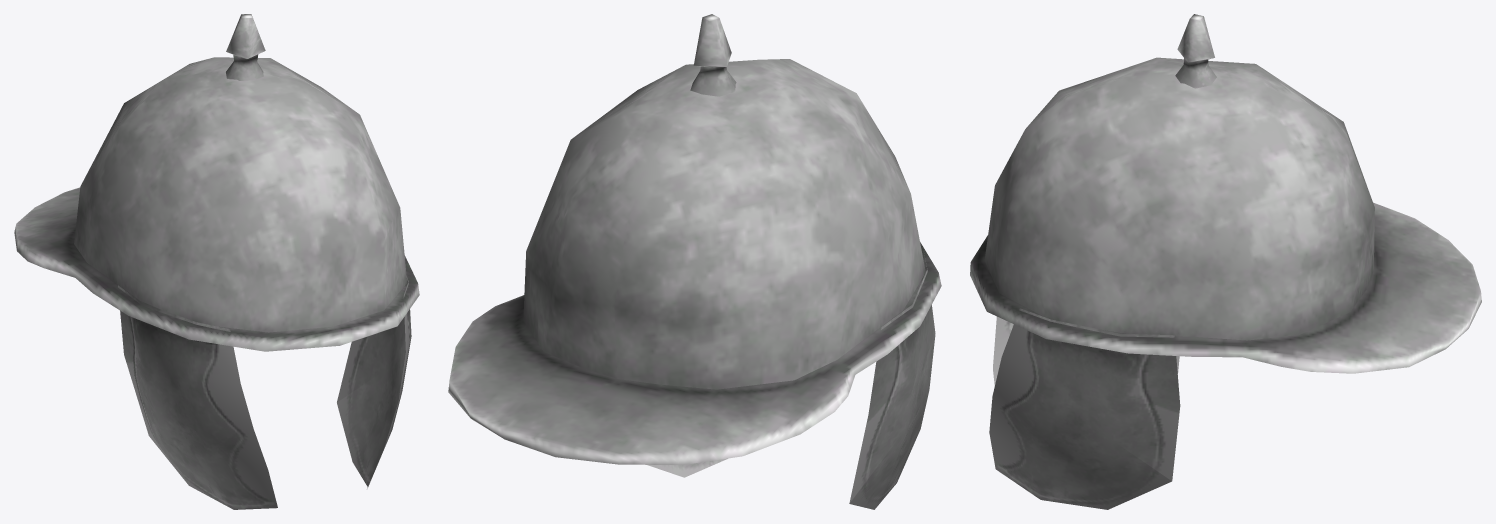
File: helmet-mediuminfantry.glb
3 views of the same model, side by side, from view 1: azimuth 30°, elevation 25°; view 2: azimuth 150°, elevation 25°; view 3: azimuth 270°, elevation 25° (orthographic). The views are drawn at different scales.
Size of the model in its own units: 0.3019 by 0.4012 by 0.405.
1 material, 1 textured.
